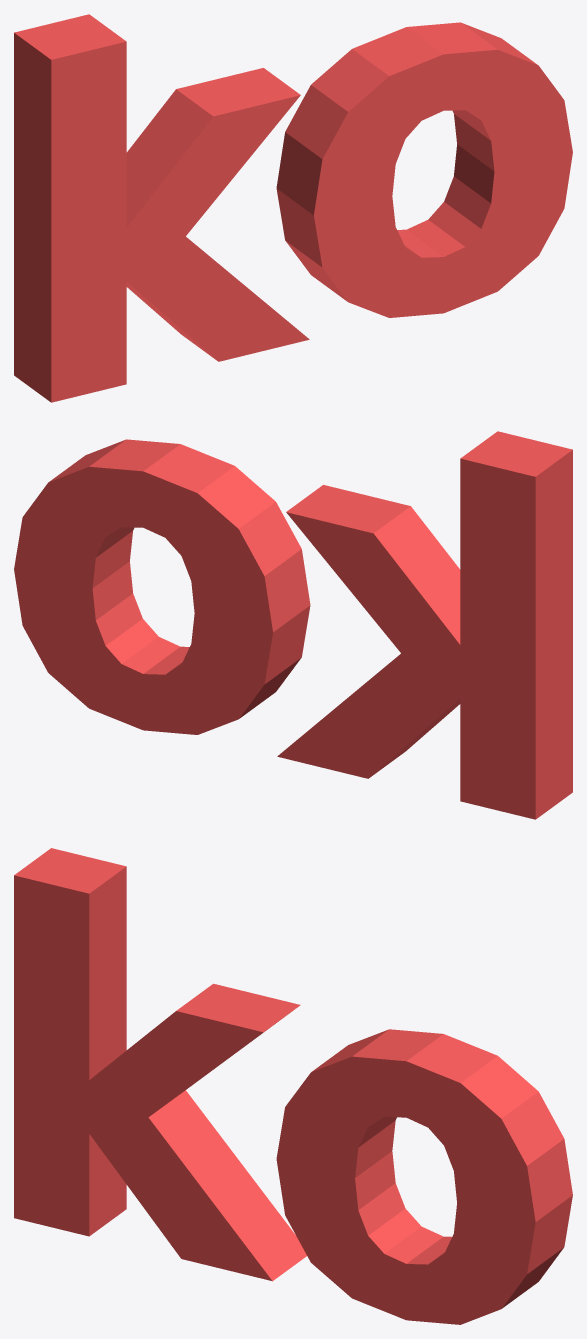
The model's file is suku_kecil_ko.glb.
The picture shows the model from 3 angles, top to bottom: view 1: azimuth 30°, elevation 25°; view 2: azimuth 150°, elevation 25°; view 3: azimuth 330°, elevation 25°; orthographic projection.
Parts seen in each view (by area): view 1: geometry_0; view 2: geometry_0; view 3: geometry_0.
Boxes of the visible parts, box(x1,y1,x2,y2) form: geometry_0: box(14, 14, 572, 402); geometry_0: box(14, 431, 572, 819); geometry_0: box(14, 848, 572, 1324).
Size of the model in its own units: 12.1 by 7.74 by 1.5.
